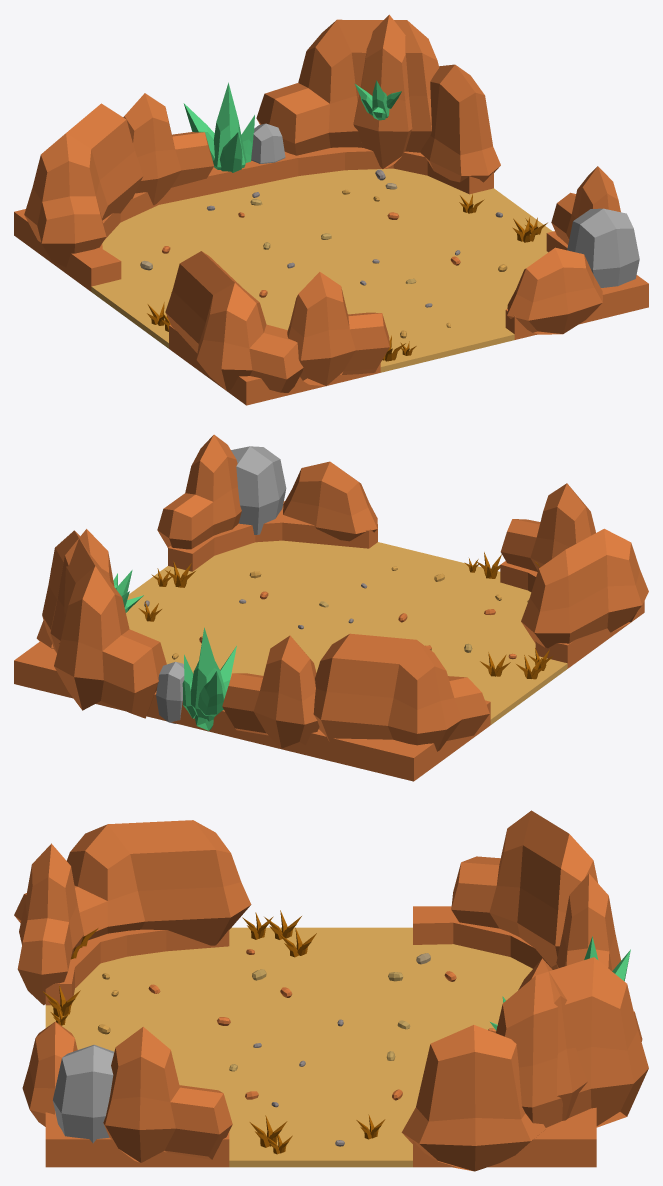
The model's file is cave level set - 3 Way (1).fbx.
3 views of the same model, one above another, from view 1: azimuth 30°, elevation 25°; view 2: azimuth 150°, elevation 25°; view 3: azimuth 270°, elevation 25° (orthographic). The views are drawn at different scales.
Visible parts, largest first — view 1: land_platform_001, Cube_001, Cube_004, Cube_003, Cube_002, Cube_006, Cube, Cube_005, Cube_010, Cube_008, Cube_011, Cube_009 (+1 smaller); view 2: land_platform_001, Cube_004, Cube_001, Cube_003, Cube_010, Cube_009, Cube_005, Cube_002, Cube_008, Cube_011, Cube, Cube_007; view 3: land_platform_001, Cube_003, Cube_001, Cube_006, Cube_004, Cube_009, Cube_002, Cube_008, Cube_010, Cube_005, Cube.
Boxes of the visible parts, left/top/right/bottom form: land_platform_001: left=14, top=147, right=648, bottom=405; Cube_001: left=256, top=19, right=439, bottom=155; Cube_004: left=24, top=103, right=143, bottom=267; Cube_003: left=165, top=251, right=303, bottom=392; Cube_002: left=287, top=272, right=389, bottom=386; Cube_006: left=420, top=64, right=500, bottom=182; Cube: left=353, top=14, right=412, bottom=169; Cube_005: left=507, top=247, right=602, bottom=334; Cube_010: left=123, top=93, right=213, bottom=205; Cube_008: left=567, top=208, right=639, bottom=287; Cube_011: left=183, top=82, right=254, bottom=172; Cube_009: left=551, top=166, right=620, bottom=244; land_platform_001: left=14, top=501, right=644, bottom=781; Cube_004: left=313, top=633, right=489, bottom=751; Cube_001: left=42, top=530, right=166, bottom=718; Cube_003: left=521, top=528, right=648, bottom=648; Cube_010: left=222, top=635, right=319, bottom=748; Cube_009: left=157, top=434, right=241, bottom=549; Cube_005: left=283, top=461, right=377, bottom=541; Cube_002: left=500, top=483, right=595, bottom=571; Cube_008: left=231, top=446, right=286, bottom=534; Cube_011: left=182, top=627, right=236, bottom=730; Cube: left=50, top=529, right=143, bottom=652; Cube_007: left=156, top=661, right=184, bottom=723; land_platform_001: left=45, top=906, right=596, bottom=1167; Cube_003: left=14, top=820, right=251, bottom=945; Cube_001: left=496, top=957, right=648, bottom=1127; Cube_006: left=401, top=1025, right=545, bottom=1171; Cube_004: left=451, top=810, right=598, bottom=967; Cube_009: left=103, top=1027, right=232, bottom=1162; Cube_002: left=17, top=843, right=83, bottom=1005; Cube_008: left=53, top=1044, right=114, bottom=1143; Cube_010: left=556, top=874, right=620, bottom=970; Cube_005: left=22, top=1021, right=77, bottom=1126; Cube: left=490, top=958, right=587, bottom=1120.
Bounding box in the file's own units: 16.66 × 5.71 × 17.49.
